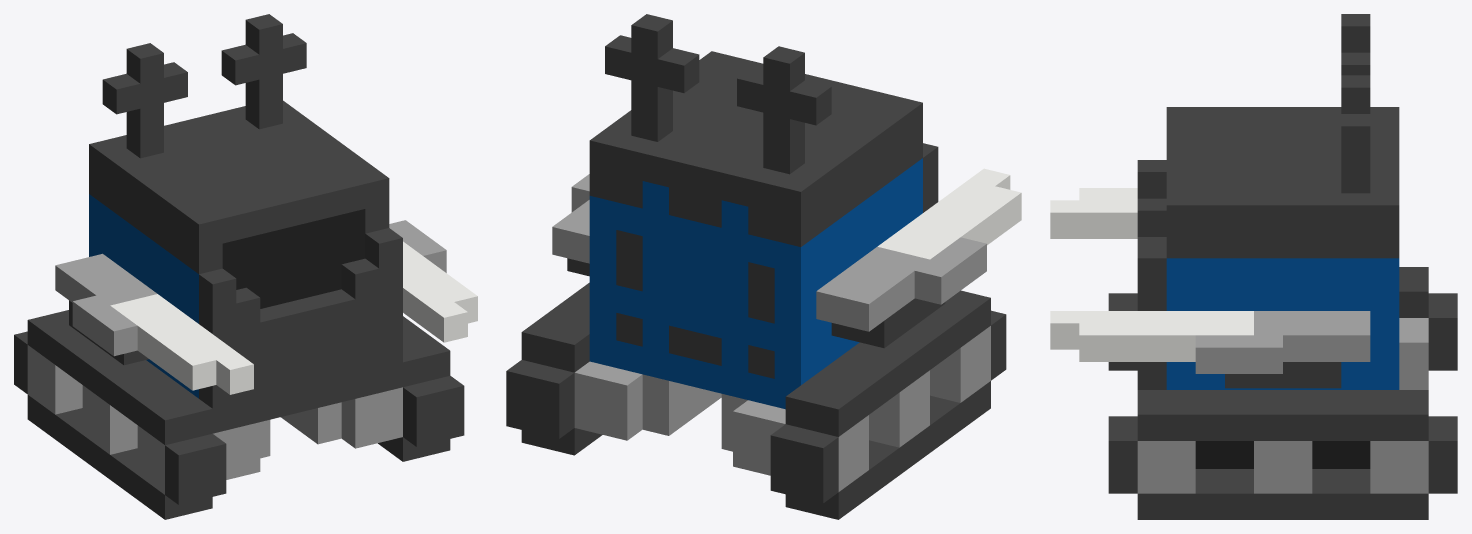
File: Blue-12.obj
3 renders of one model, left to right at view 1: azimuth 30°, elevation 25°; view 2: azimuth 150°, elevation 25°; view 3: azimuth 270°, elevation 25°, orthographic. The views are drawn at different scales.
Visible parts, largest first — view 1: Blue-12; view 2: Blue-12; view 3: Blue-12.
Boxes of the visible parts, <box> form: Blue-12: <box>14,14,477,519</box>; Blue-12: <box>506,14,1021,519</box>; Blue-12: <box>1050,14,1457,519</box>.
Bounding box in the file's own units: 14 × 15 × 14.
1 material, 1 textured.
